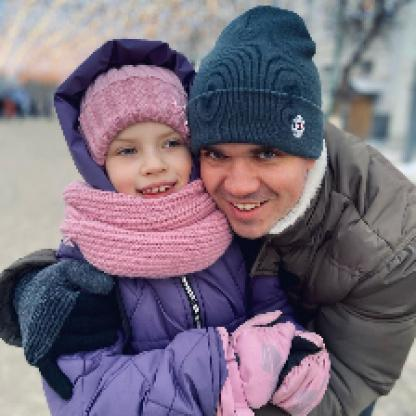child: (33, 38, 334, 415)
